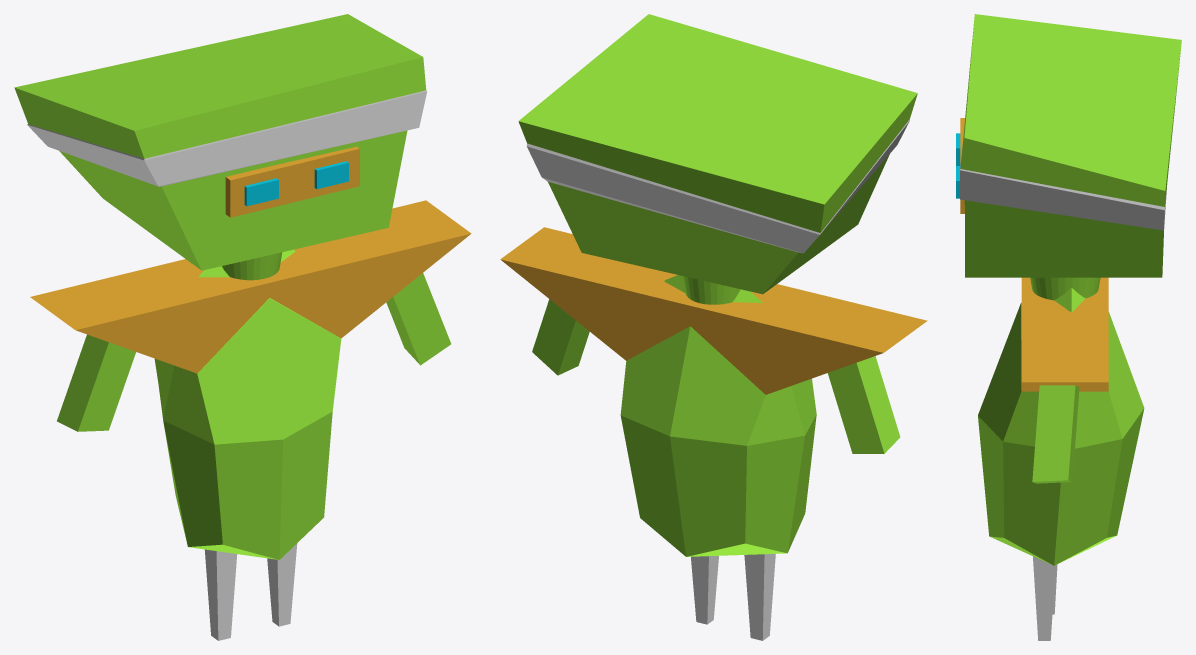
Rendered from green-partier2.gltf.
3 renders of one model, left to right at view 1: azimuth 30°, elevation 25°; view 2: azimuth 150°, elevation 25°; view 3: azimuth 270°, elevation 25°, orthographic. The views are drawn at different scales.
Parts seen in each view (by area): view 1: eye1; view 2: eye1; view 3: eye1.
Boxes of the visible parts, x1,y1,x2,y2 form: eye1: (14, 14, 471, 640); eye1: (500, 14, 927, 640); eye1: (956, 14, 1181, 640).
Size of the model in its own units: 44.33 by 61.25 by 22.88.
